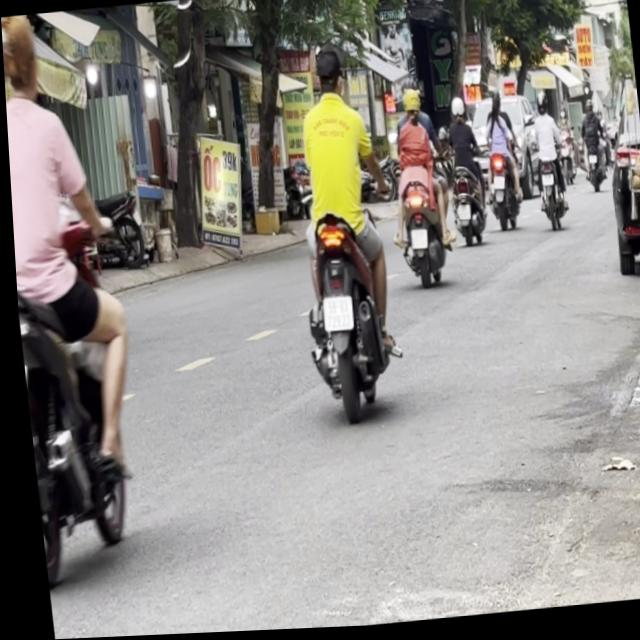licenseplate: (1, 7, 150, 590), (272, 41, 403, 425)
motorcyclist: (1, 13, 40, 102), (309, 43, 345, 99)
nohelmet: (317, 297, 349, 333)
